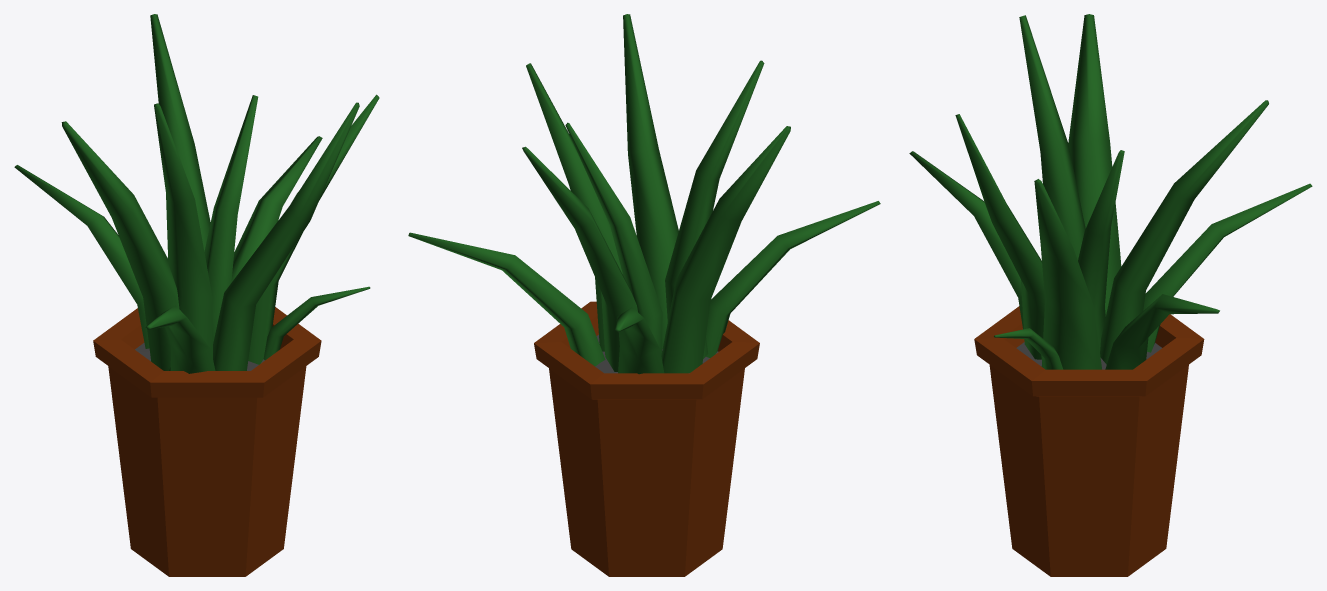
File: tree.fbx
The picture shows the model from 3 angles, left to right: view 1: azimuth 30°, elevation 25°; view 2: azimuth 150°, elevation 25°; view 3: azimuth 270°, elevation 25°; orthographic projection.
Visible parts, largest first — view 1: tree; view 2: tree; view 3: tree.
Boxes of the visible parts, <box> form: tree: <box>14,14,379,576</box>; tree: <box>408,14,880,576</box>; tree: <box>909,14,1312,576</box>.
Bounding box in the file's own units: 202 × 290 × 215.
